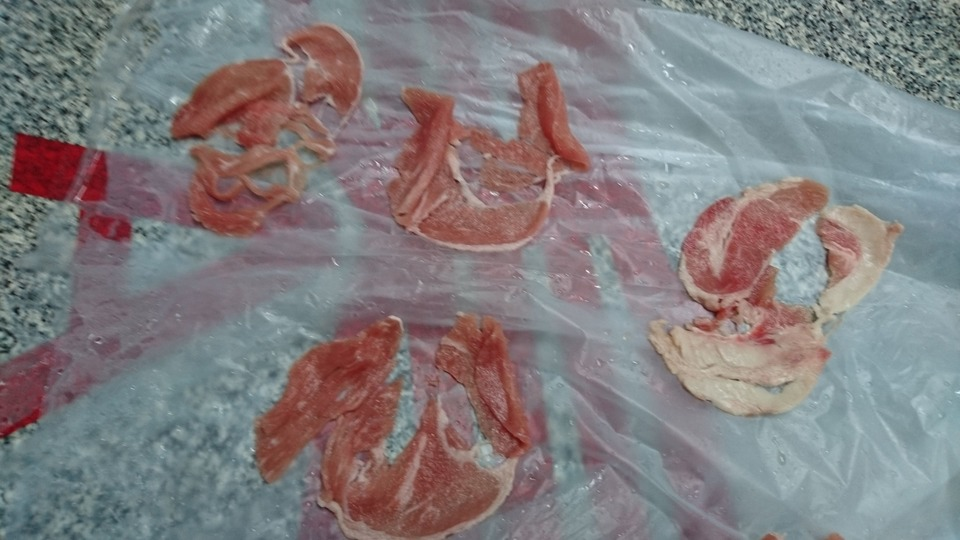restructured meat: (219, 289, 566, 539), (643, 159, 894, 431), (160, 31, 355, 231), (388, 77, 578, 267)
